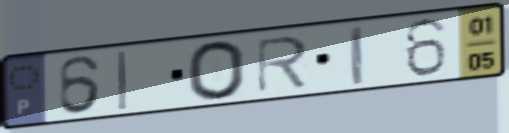6: (402, 15, 451, 80), (55, 52, 103, 117)
I: (346, 23, 368, 88), (114, 49, 130, 113)
O: (183, 38, 250, 103)
R: (253, 33, 312, 96)
